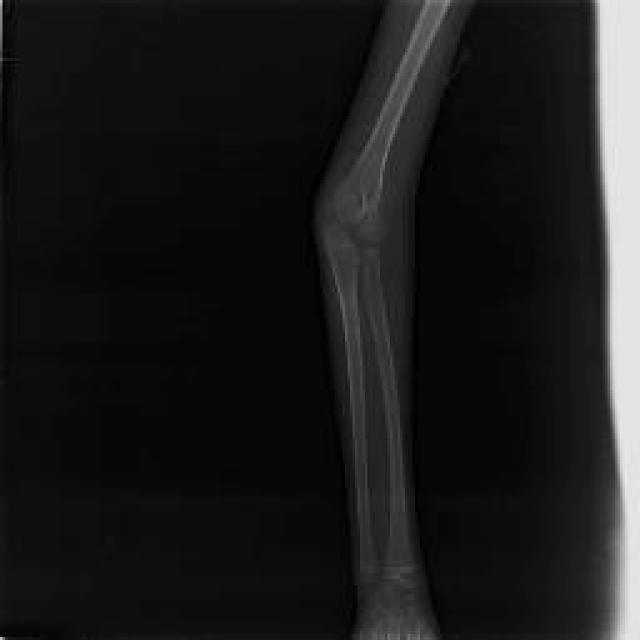normal: (328, 11, 440, 640)
